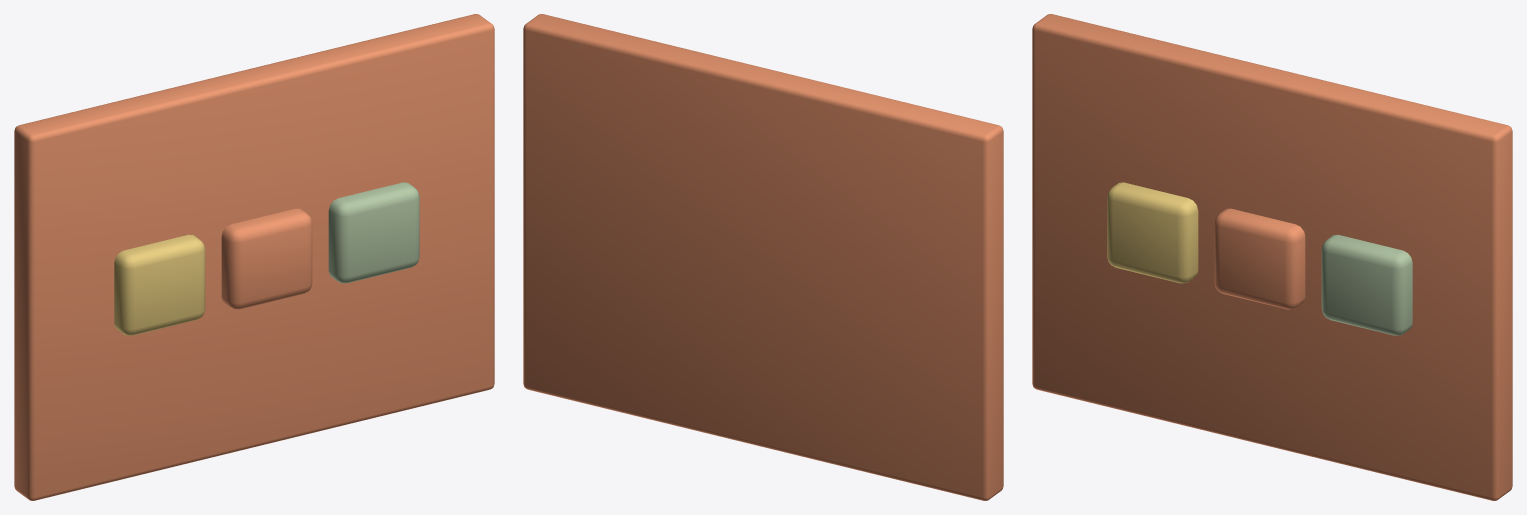
The model's file is art-panel.glb.
The picture shows the model from 3 angles, left to right: view 1: azimuth 30°, elevation 25°; view 2: azimuth 150°, elevation 25°; view 3: azimuth 330°, elevation 25°; orthographic projection.
Parts seen in each view (by area): view 1: panel.005, card-1.001, card-2.001, card-0.001; view 2: panel.005; view 3: panel.005, card-1.001, card-0.001, card-2.001.
Part boxes in pixels (box(x1,y1,x2,y2)): panel.005: box(14, 14, 494, 500); card-1.001: box(221, 208, 312, 309); card-2.001: box(328, 182, 419, 283); card-0.001: box(114, 234, 205, 335); panel.005: box(523, 14, 1003, 500); panel.005: box(1032, 14, 1512, 500); card-1.001: box(1214, 208, 1305, 309); card-0.001: box(1107, 182, 1198, 283); card-2.001: box(1321, 234, 1412, 335).
Size of the model in its own units: 1.2 by 0.9 by 0.1296.
